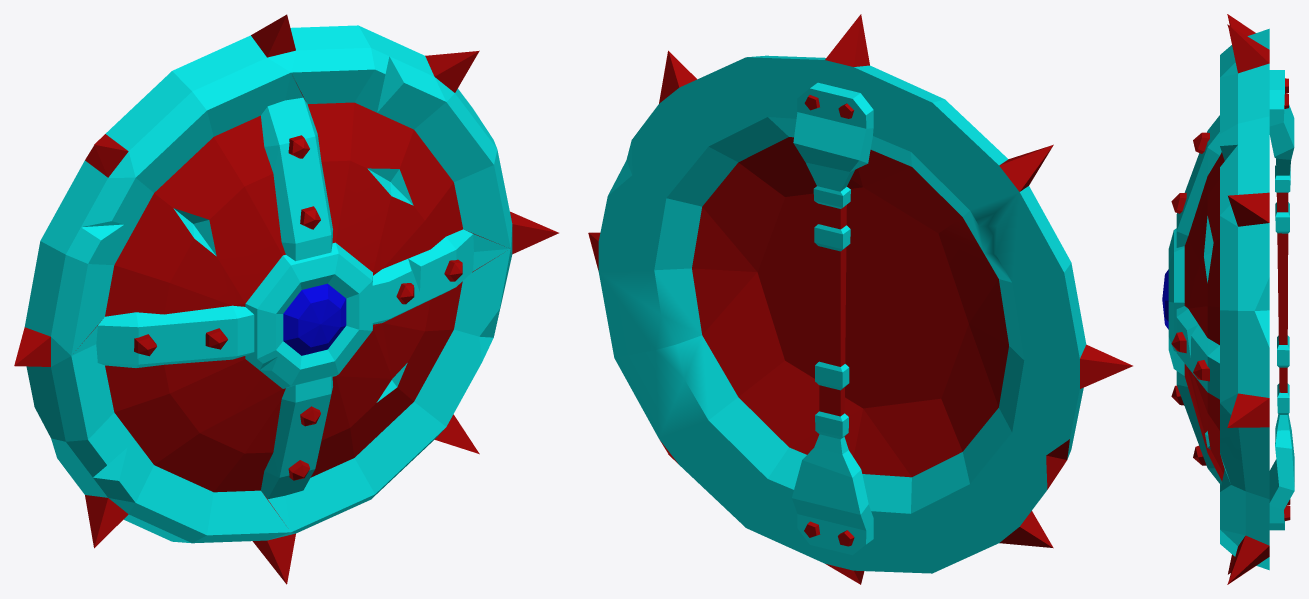
The model's file is Shield_Rare_DemonicShield.fbx.
The picture shows the model from 3 angles, left to right: view 1: azimuth 30°, elevation 25°; view 2: azimuth 150°, elevation 25°; view 3: azimuth 270°, elevation 25°; orthographic projection. The views are drawn at different scales.
Visible parts, largest first — view 1: SM_Wep_Shield_08; view 2: SM_Wep_Shield_08; view 3: SM_Wep_Shield_08.
Boxes of the visible parts, x1,y1,x2,y2 form: SM_Wep_Shield_08: (14, 14, 558, 584); SM_Wep_Shield_08: (588, 14, 1132, 584); SM_Wep_Shield_08: (1162, 14, 1294, 584).
Size of the model in its own units: 75.61 by 75.61 by 16.48.
